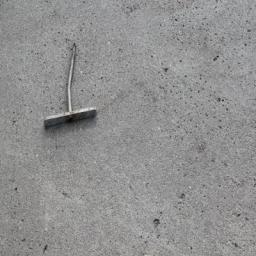FOD: (43, 42, 101, 131)
